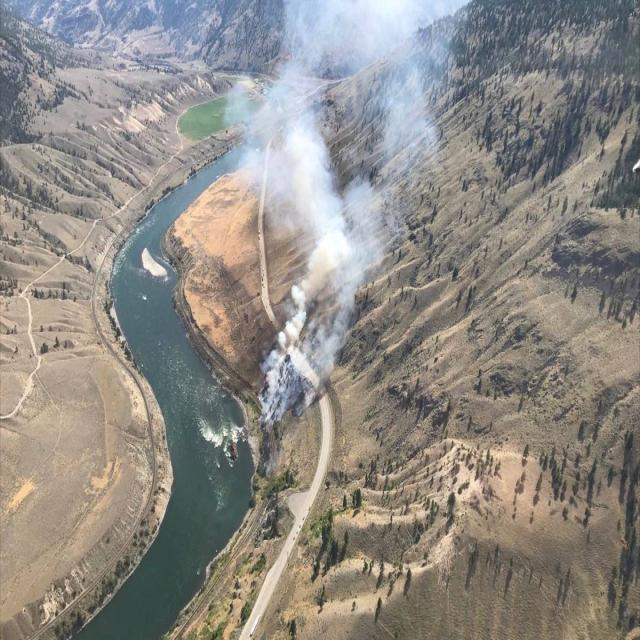Smoke: (232, 3, 440, 311), (217, 236, 398, 427), (252, 106, 342, 270)
